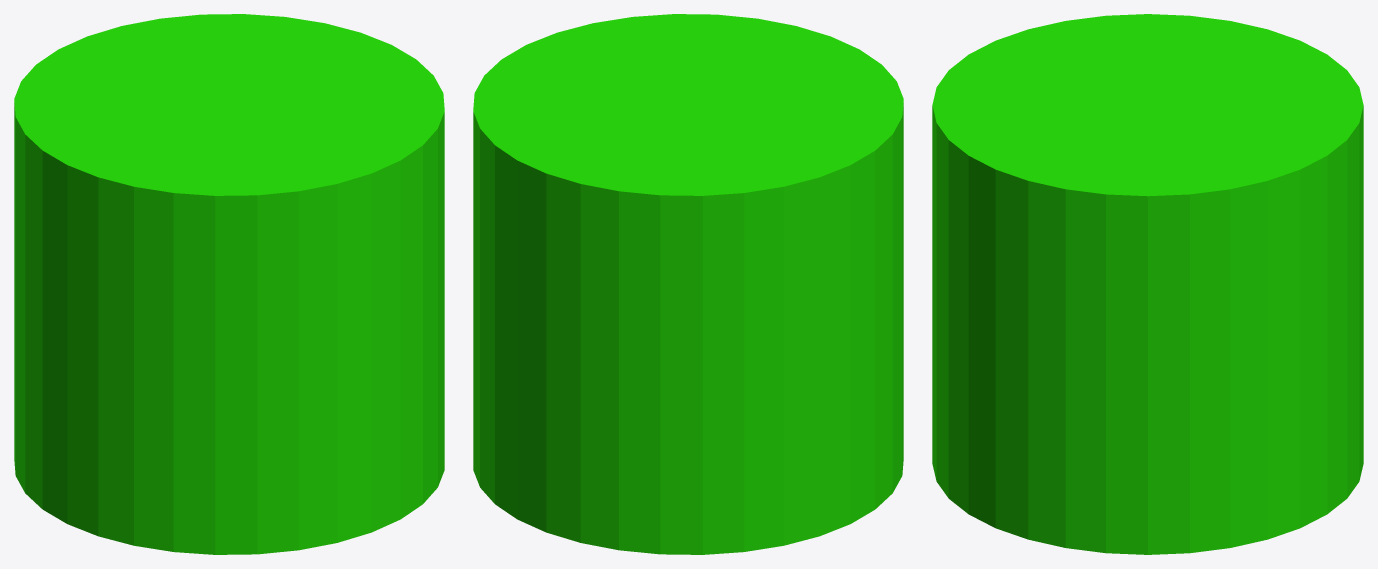
Rendered from 3DSPECIMENLIQUIDGREEN.dae.
The picture shows the model from 3 angles, left to right: view 1: azimuth 30°, elevation 25°; view 2: azimuth 150°, elevation 25°; view 3: azimuth 270°, elevation 25°; orthographic projection.
Parts seen in each view (by area): view 1: Cylinder.012; view 2: Cylinder.012; view 3: Cylinder.012.
Part boxes in pixels (left/top/right/bottom): Cylinder.012: left=14, top=14, right=444, bottom=554; Cylinder.012: left=473, top=14, right=903, bottom=554; Cylinder.012: left=932, top=14, right=1363, bottom=554.
Size of the model in its own units: 0.0382 by 0.0382 by 0.0351.
